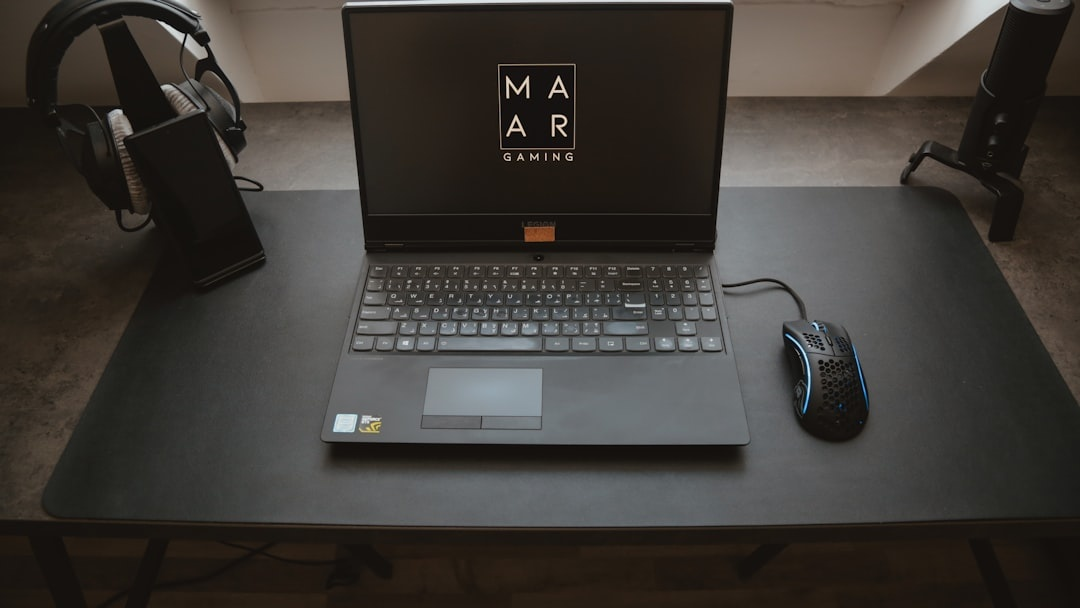laptop: (291, 1, 768, 469)
